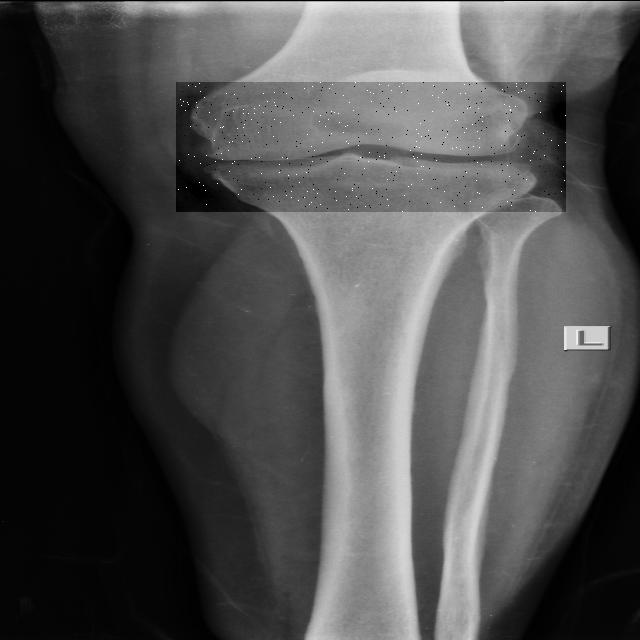normal: (176, 82, 566, 212)
